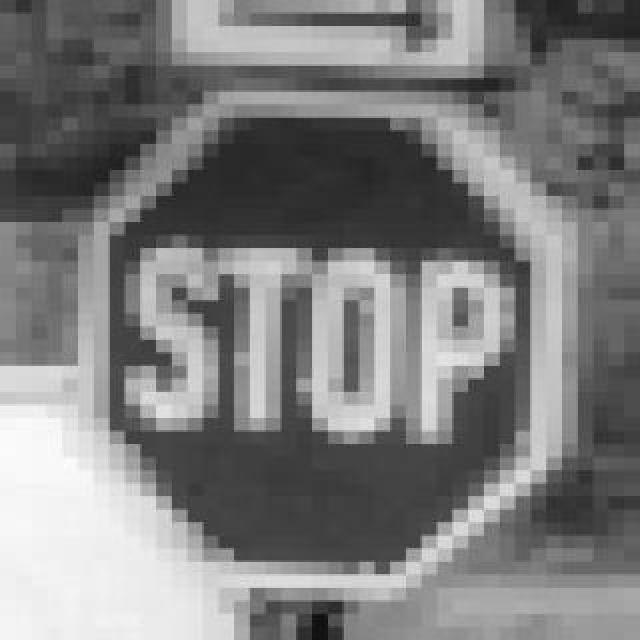stop: (46, 64, 562, 588)
